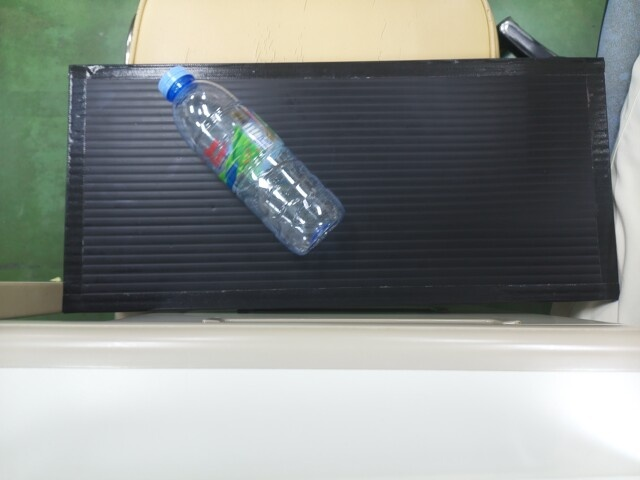plastic_bottle: (155, 63, 348, 251)
